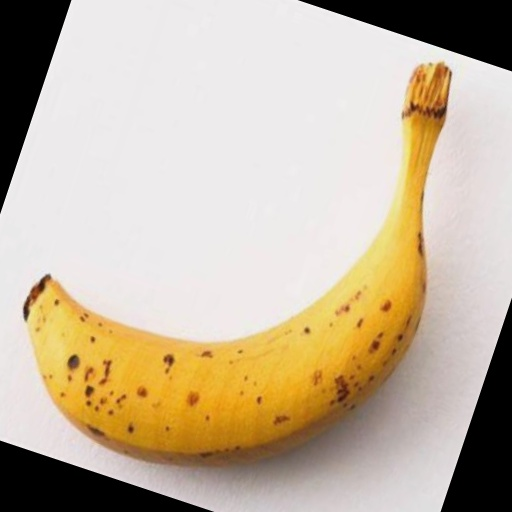fruit: (0, 88, 140, 450)
